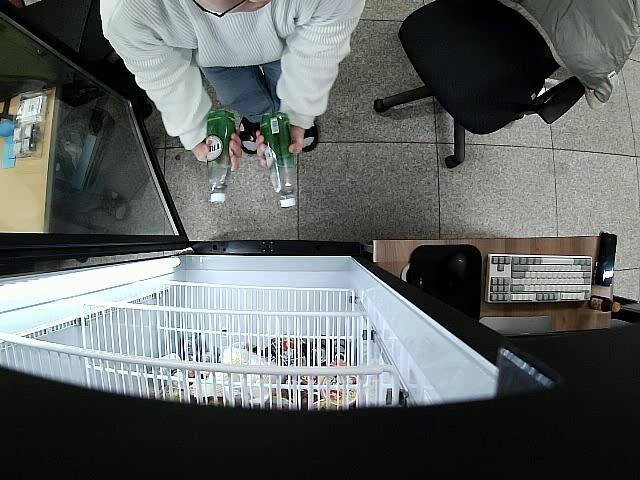18_trevi: (259, 113, 300, 210), (204, 106, 242, 204)
